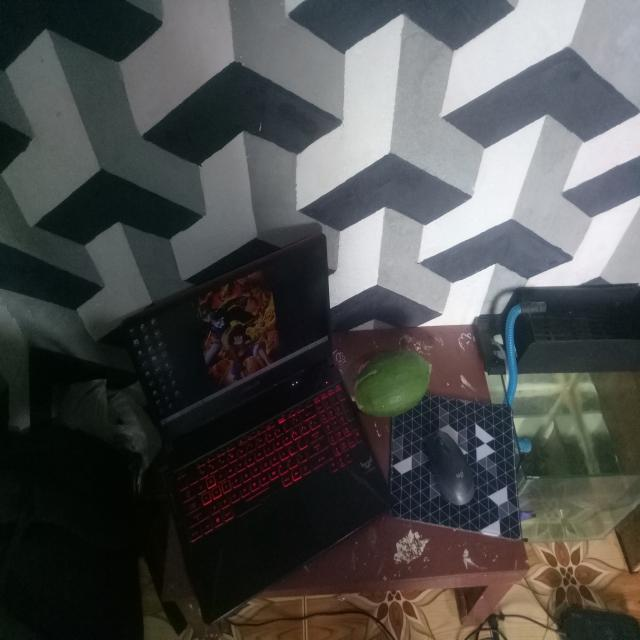Pepaya unrippen: (346, 339, 440, 426)
